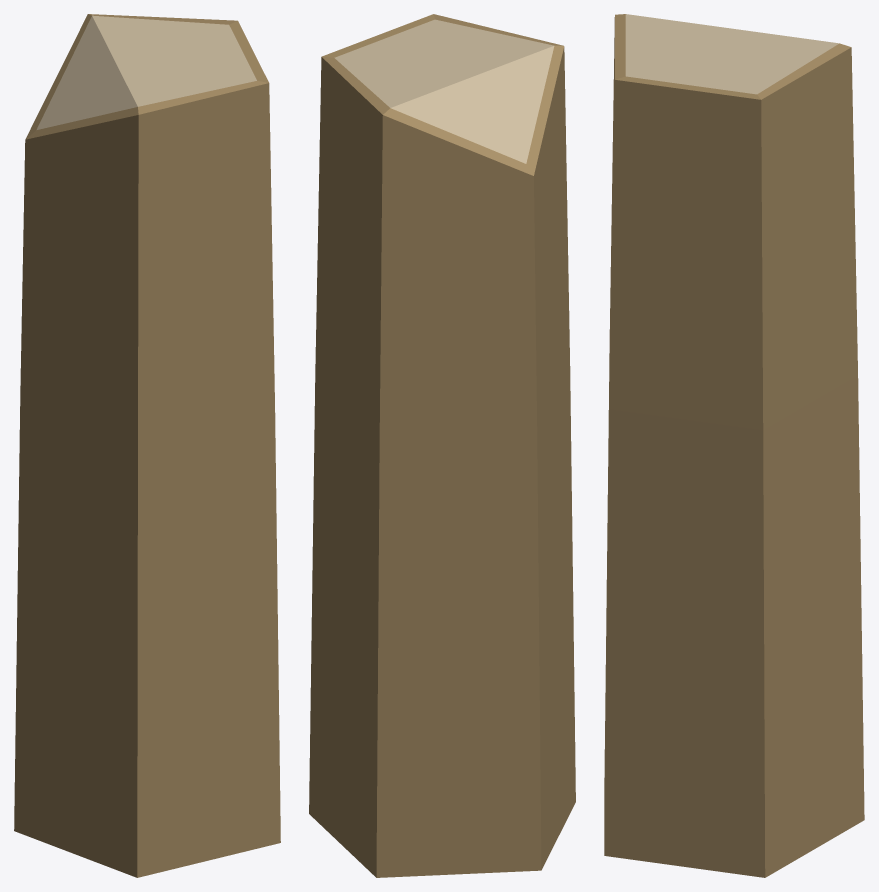
The model's file is Thuja_Stump_01_LOD.fbx.
3 renders of one model, left to right at view 1: azimuth 30°, elevation 25°; view 2: azimuth 150°, elevation 25°; view 3: azimuth 270°, elevation 25°, orthographic. The views are drawn at different scales.
Parts seen in each view (by area): view 1: Thuja_Stump_01_LOD0; view 2: Thuja_Stump_01_LOD0; view 3: Thuja_Stump_01_LOD0.
Part boxes in pixels (x1,y1,x2,y2): Thuja_Stump_01_LOD0: [14, 14, 280, 877]; Thuja_Stump_01_LOD0: [309, 14, 575, 877]; Thuja_Stump_01_LOD0: [604, 14, 864, 877].
Size of what is drawn, in the model's own units: 21.17 by 66.28 by 20.14.
